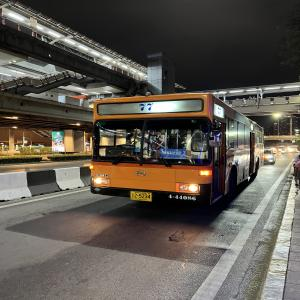BMTA-bus: (90, 93, 264, 208)
Bus Line Number: (131, 100, 162, 113)
Bus Side Number: (166, 193, 199, 204)
Destination Sign: (158, 148, 189, 159)
